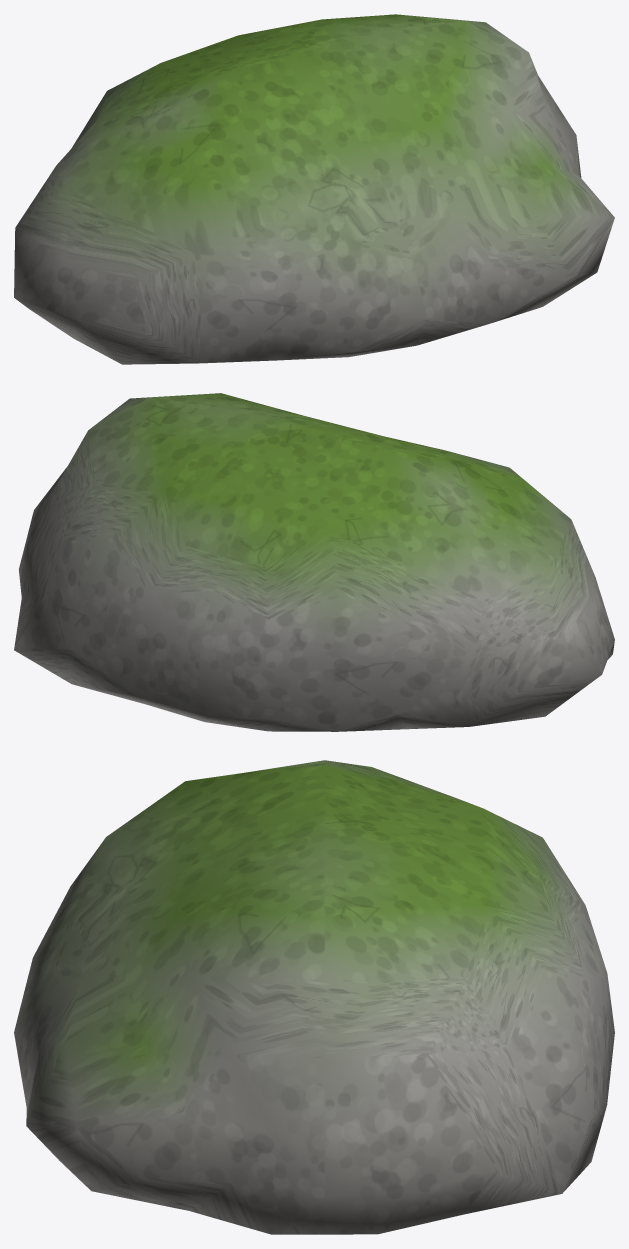
The model's file is rock_boulder.glb.
The picture shows the model from 3 angles, top to bottom: view 1: azimuth 30°, elevation 25°; view 2: azimuth 150°, elevation 25°; view 3: azimuth 270°, elevation 25°; orthographic projection. The views are drawn at different scales.
Parts seen in each view (by area): view 1: rock_boulder_stone; view 2: rock_boulder_stone; view 3: rock_boulder_stone.
Part boxes in pixels (x1=…): rock_boulder_stone: x1=14, y1=14, x2=614, y2=364; rock_boulder_stone: x1=14, y1=393, x2=614, y2=731; rock_boulder_stone: x1=14, y1=760, x2=614, y2=1234.
Bounding box in the file's own units: 2.96 × 1.12 × 2.19.
1 material, 1 textured.
